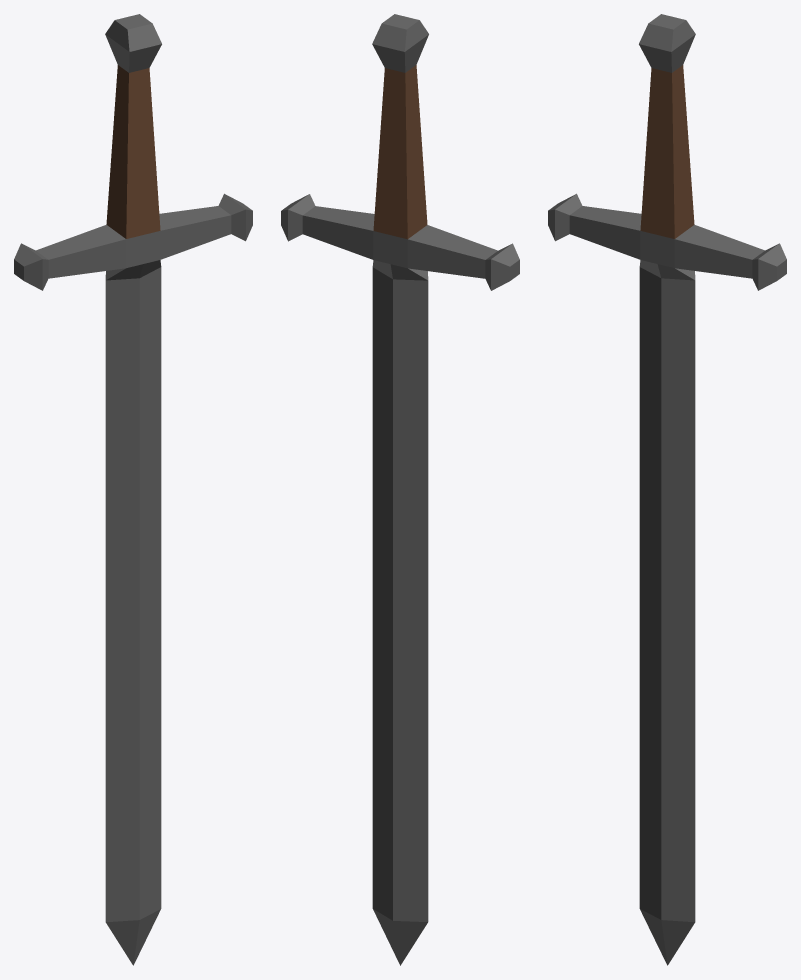
File: Sword.fbx
3 renders of one model, left to right at view 1: azimuth 30°, elevation 25°; view 2: azimuth 150°, elevation 25°; view 3: azimuth 330°, elevation 25°, orthographic.
Visible parts, largest first — view 1: Sword; view 2: Sword; view 3: Sword.
Boxes of the visible parts, x1,y1,x2,y2 form: Sword: (14, 14, 252, 965); Sword: (281, 14, 519, 965); Sword: (548, 14, 786, 965).
Bounding box in the file's own units: 22.27 × 87.74 × 4.12.
Materials: 1 (1 with a texture image).
